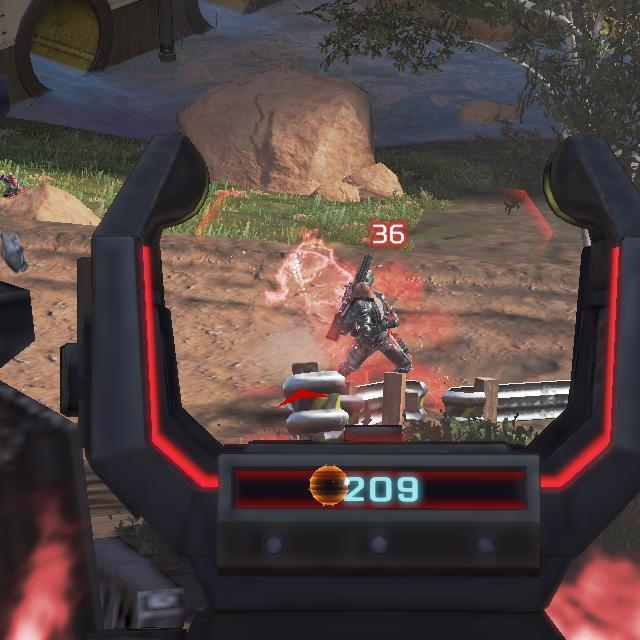avatar: (324, 278, 413, 375)
